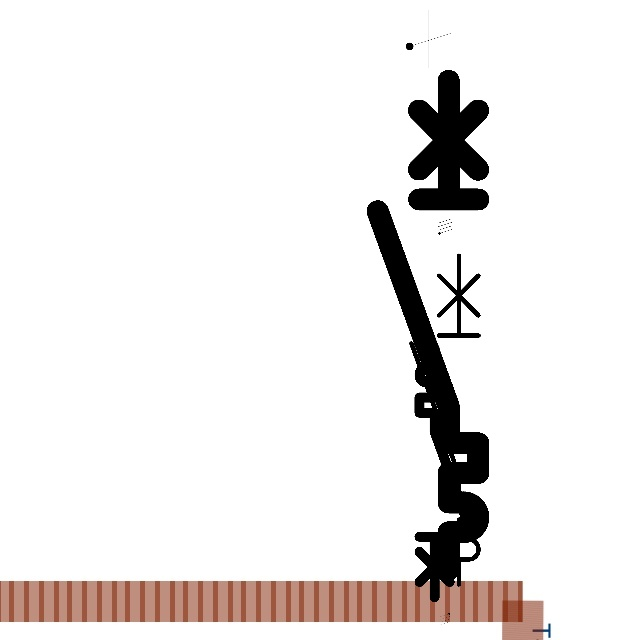interruptor_termomagnetico: (365, 68, 491, 582), (403, 247, 487, 593), (413, 342, 477, 603)
